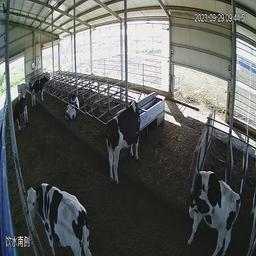cow: (15, 177, 95, 256), (181, 168, 241, 256), (100, 88, 145, 193), (30, 72, 51, 115), (61, 88, 85, 121), (10, 97, 31, 132), (16, 80, 29, 96)
